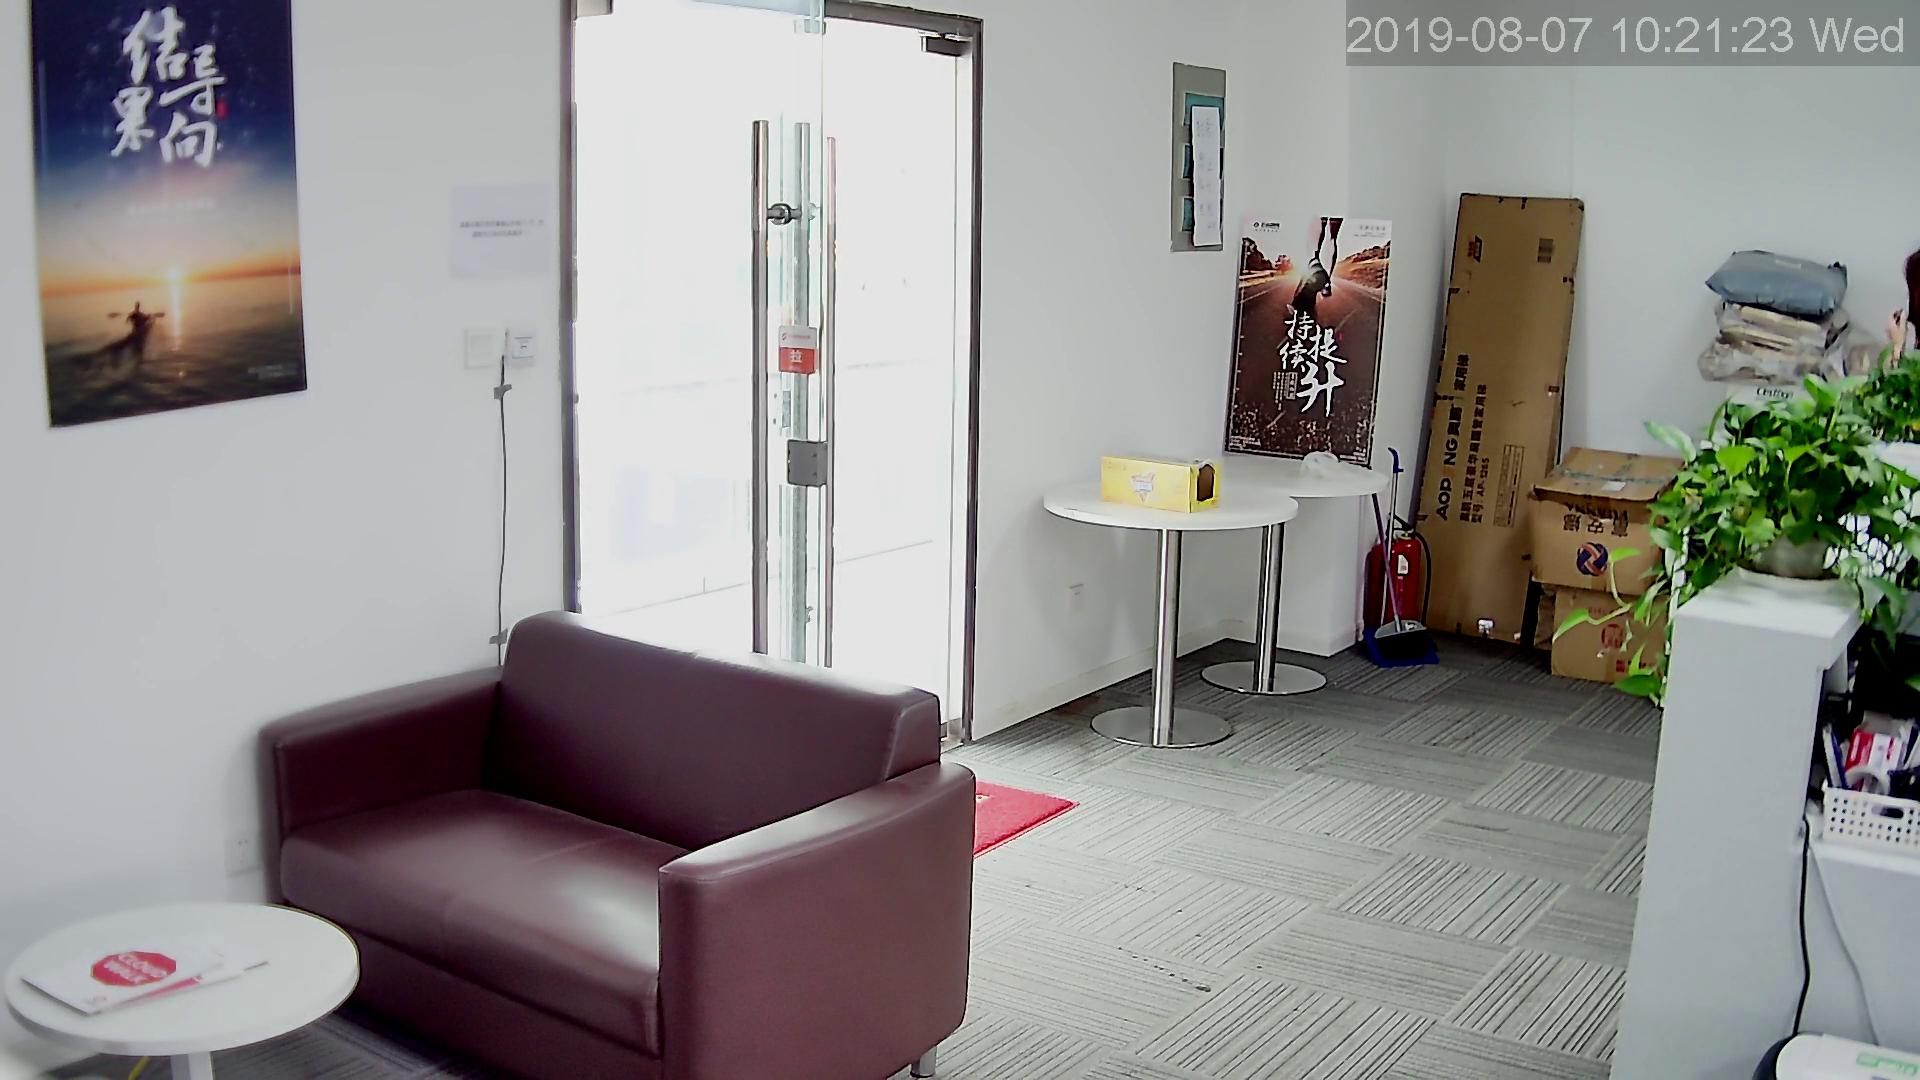bill: (26, 1, 309, 434), (1222, 208, 1390, 473)
